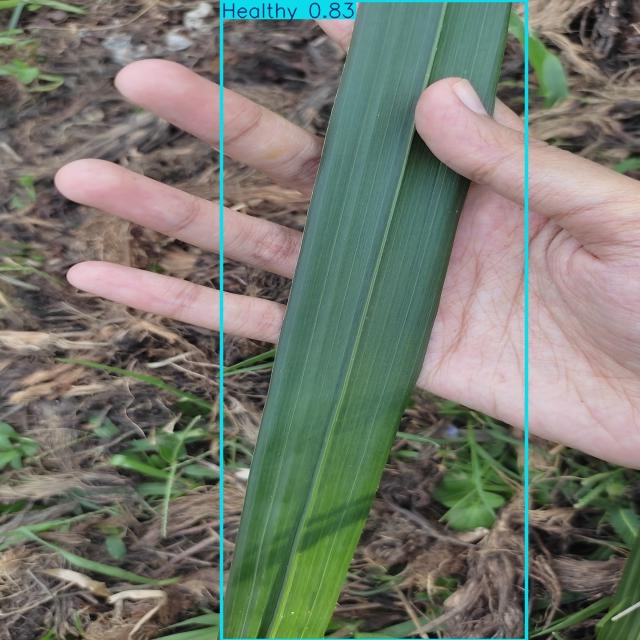Healthy: (222, 0, 527, 640)
